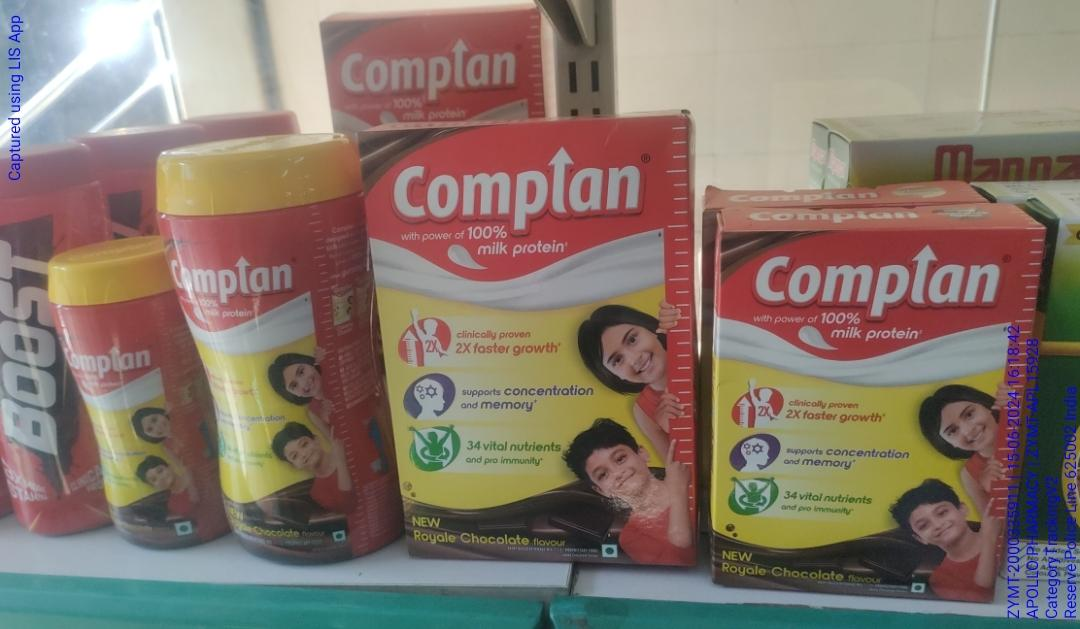COMPLAN_CHOCOLATE_200_GMS_JAR: (65, 242, 187, 555)
COMPLAN_CHOCOLATE_200_GMS_PACK: (710, 218, 1002, 603)
COMPLAN_CHOCOLATE_500_GMS_JAR: (198, 148, 374, 569)
COMPLAN_CHOCOLATE_500_GMS_PACK: (387, 130, 696, 564)
